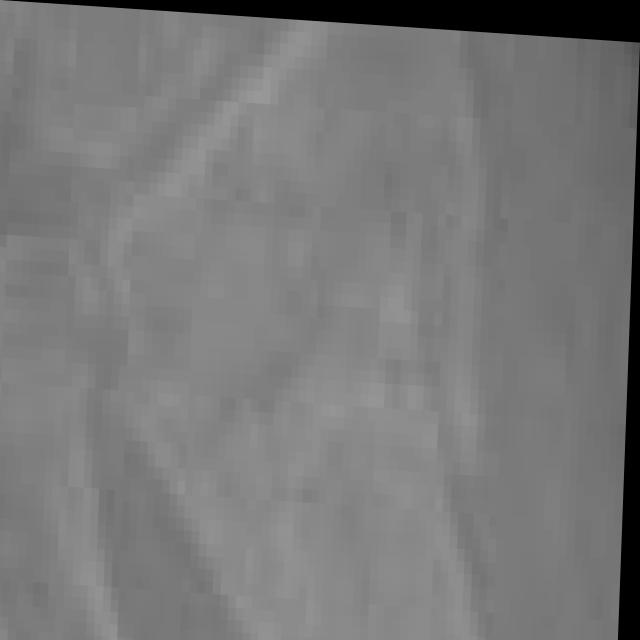fracture: (0, 27, 627, 640)
